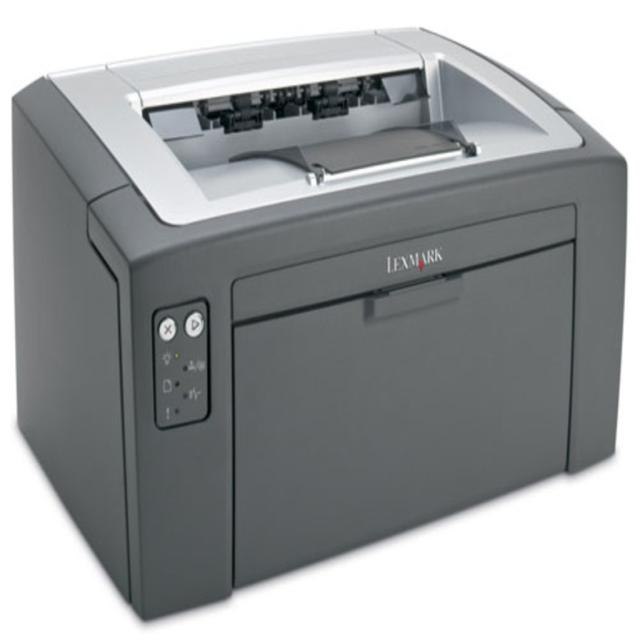printer: (11, 28, 634, 633)
